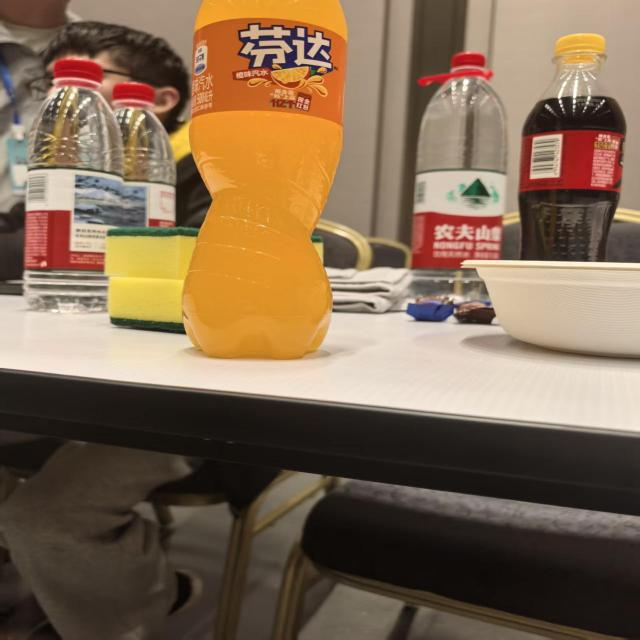orange: (227, 17, 346, 94)
